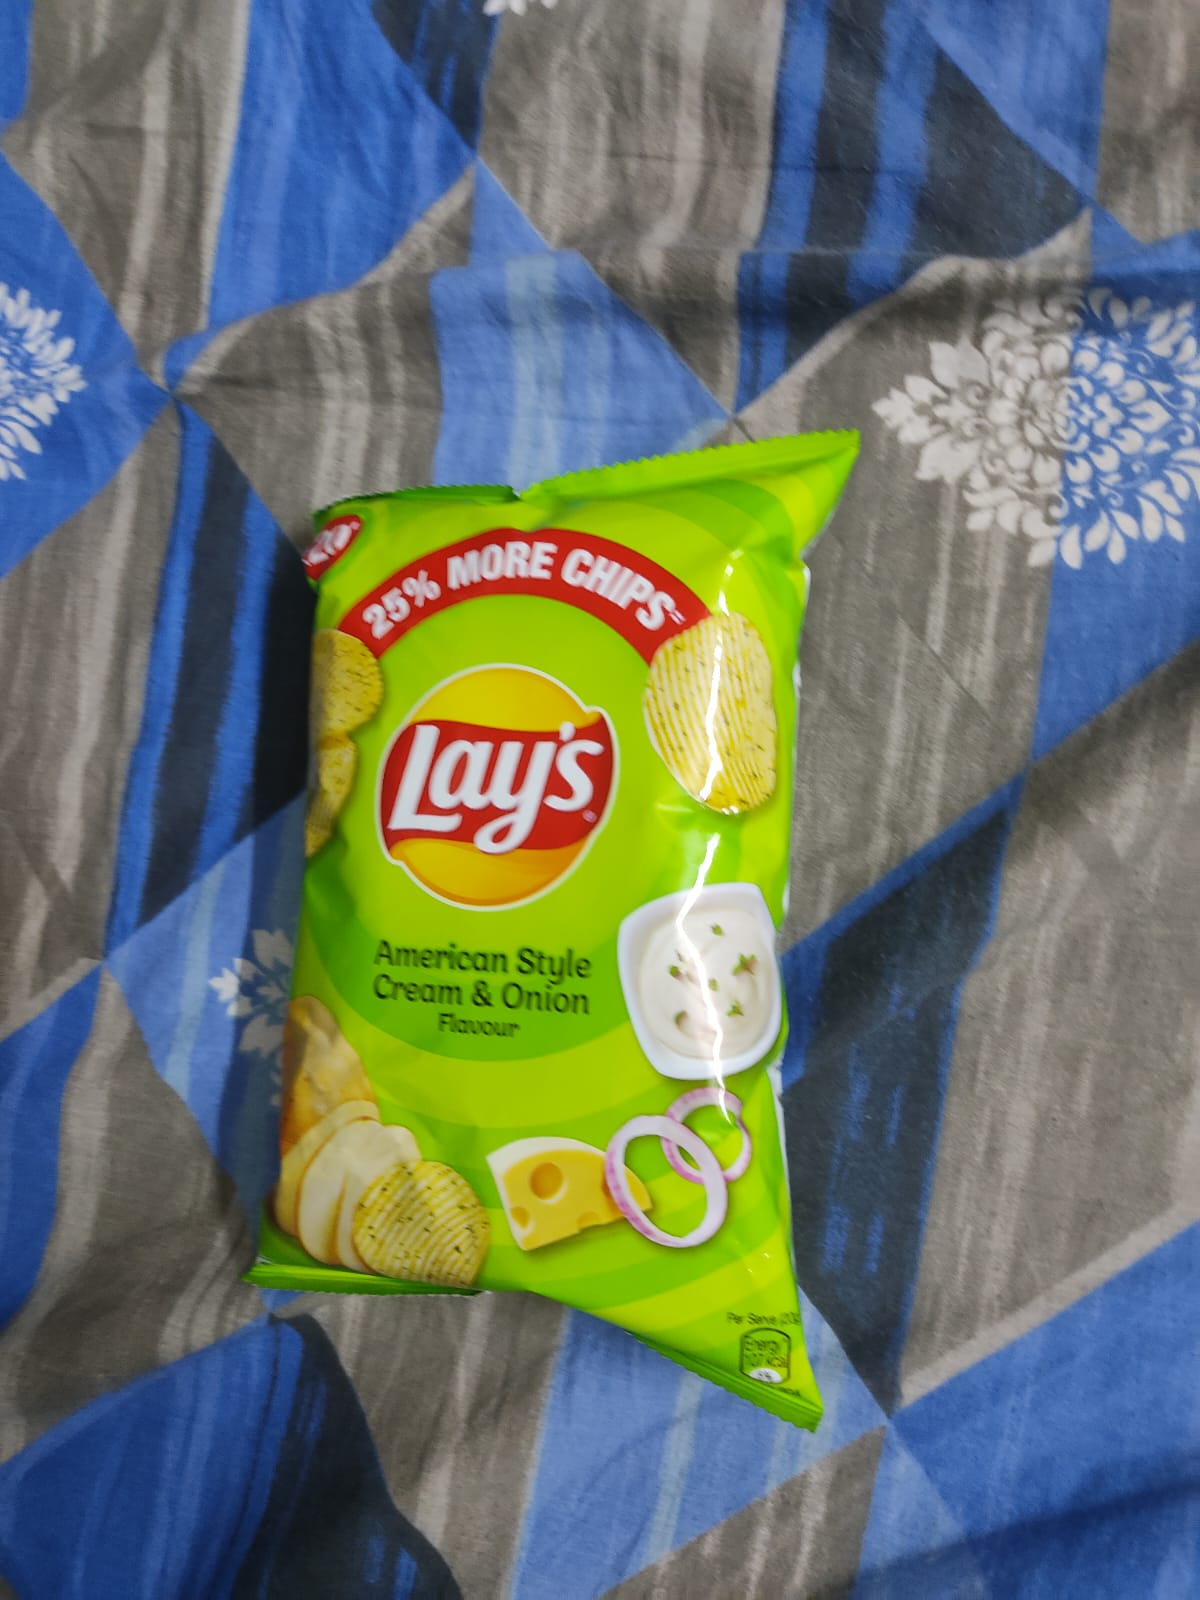020_GreenLays: (294, 474, 794, 1351)
